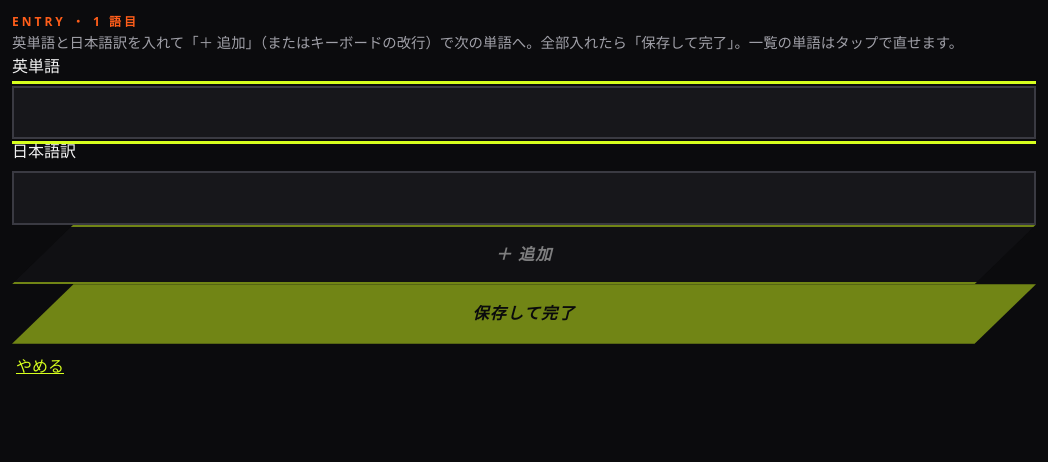
it: Entry › 登録済みの案内と「このセットにも入れる」を保存に反映する
Type "adapt" into the field labelled "英単語" at [524, 113], box top-left (12, 86), bottom-right (1036, 139)
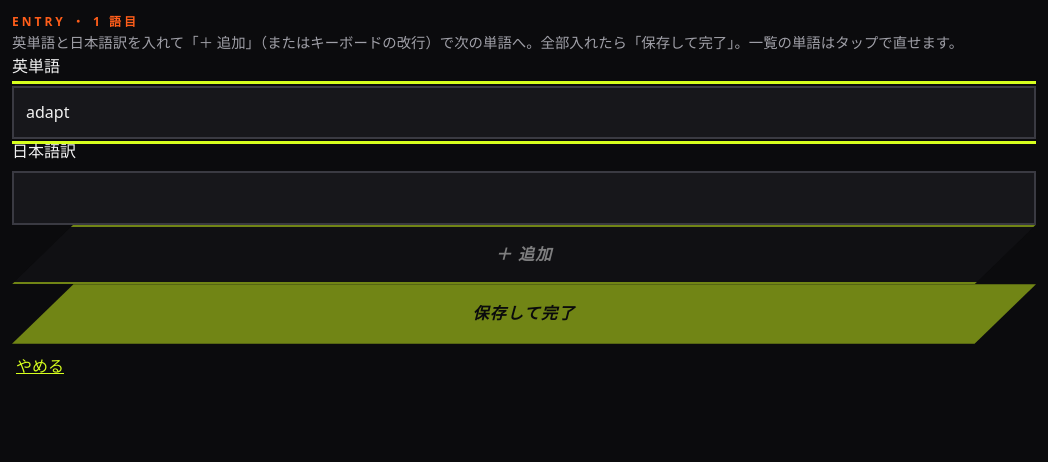
Leave the field labelled "英単語", box top-left (12, 86), bottom-right (1036, 139)
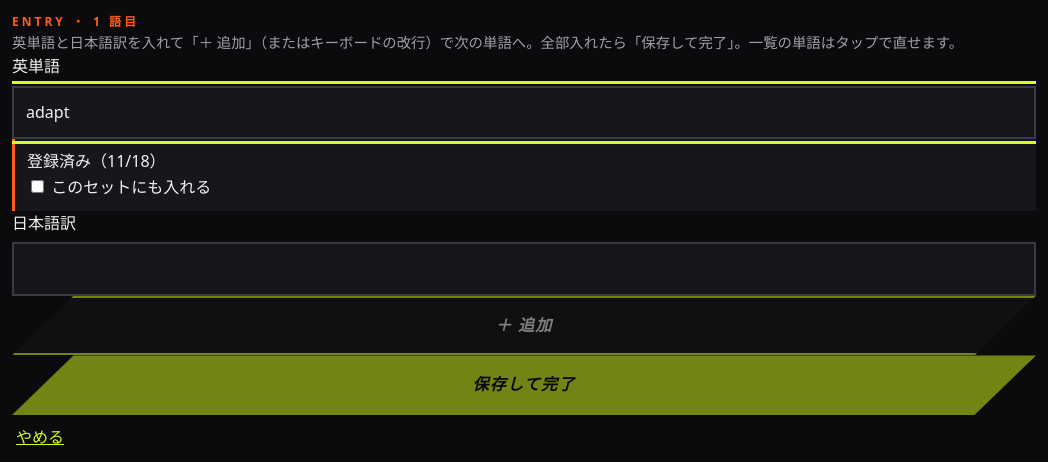
expect the text "登録済み（11/18）" is shown: met, box top-left (27, 150), bottom-right (166, 172)
Click the checkbox labelled "このセットにも入れる" at [38, 186], box top-left (31, 180), bottom-right (44, 193)
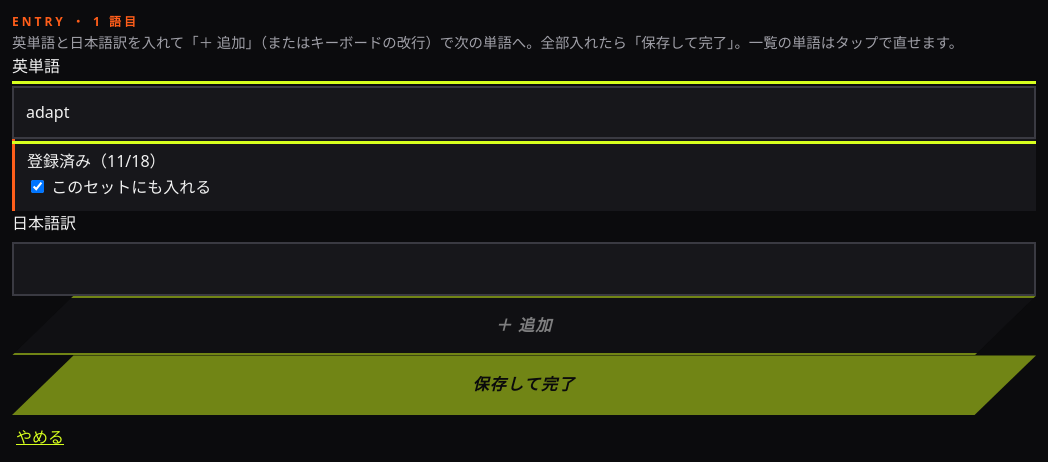
Type "適応する" into the field labelled "日本語訳" at [524, 269], box top-left (12, 242), bottom-right (1036, 296)
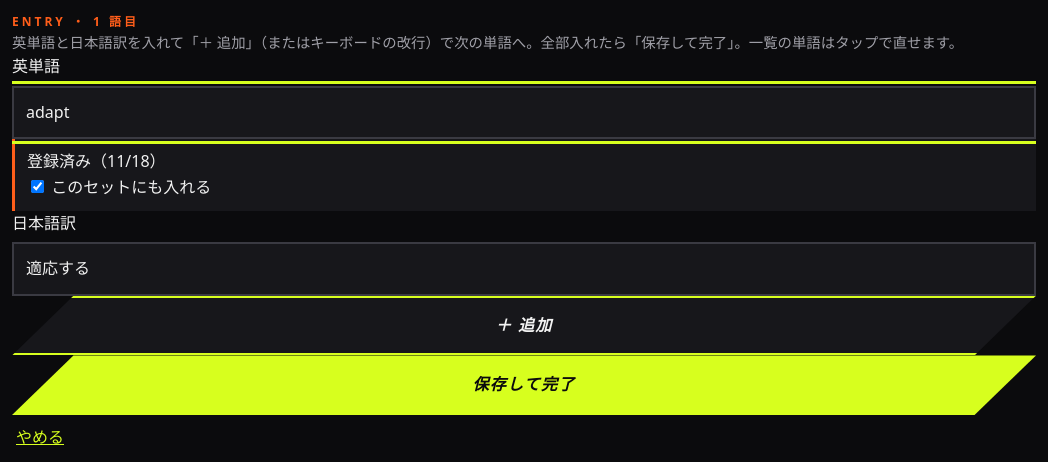
Press Enter in the field labelled "日本語訳", box top-left (12, 242), bottom-right (1036, 296)
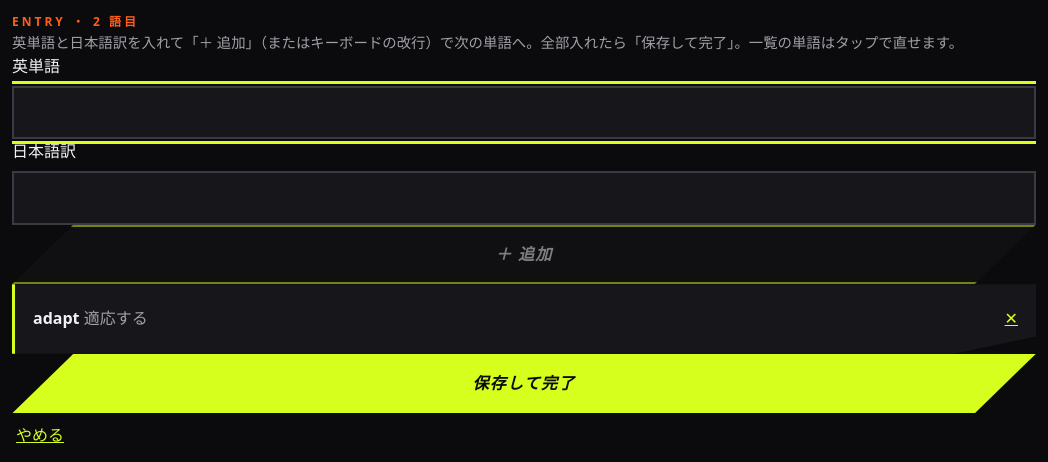
Click the button "保存して完了" at [524, 384], box top-left (12, 354), bottom-right (1036, 413)
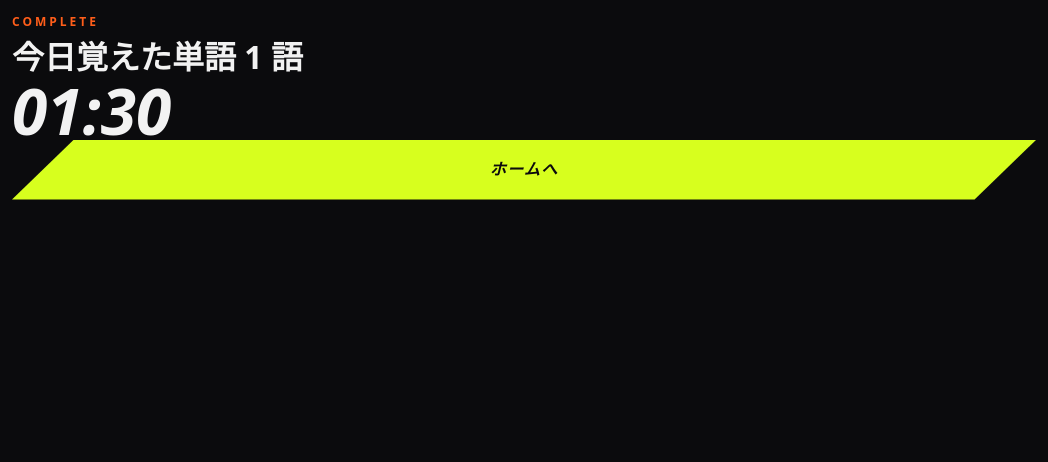
expect the heading "今日覚えた単語 1 語" is shown: met, box top-left (12, 35), bottom-right (303, 78)
